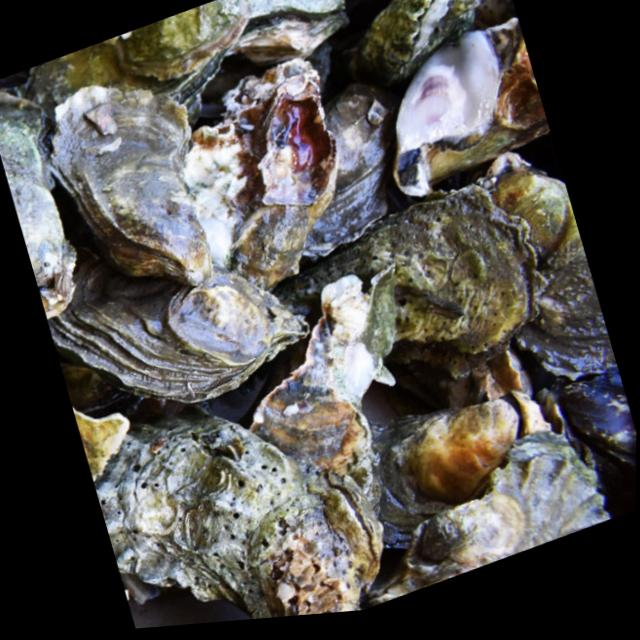Oyster-Closed: (352, 0, 504, 86), (168, 275, 270, 362), (234, 0, 350, 65), (564, 365, 636, 464)
Oyster-Indeterminate: (93, 415, 382, 619), (273, 187, 549, 374), (48, 229, 308, 400), (184, 59, 337, 291), (21, 0, 253, 151), (47, 84, 212, 283), (411, 454, 611, 589), (371, 394, 545, 549), (0, 92, 76, 318), (305, 80, 401, 256), (518, 211, 617, 377), (481, 152, 571, 257)
